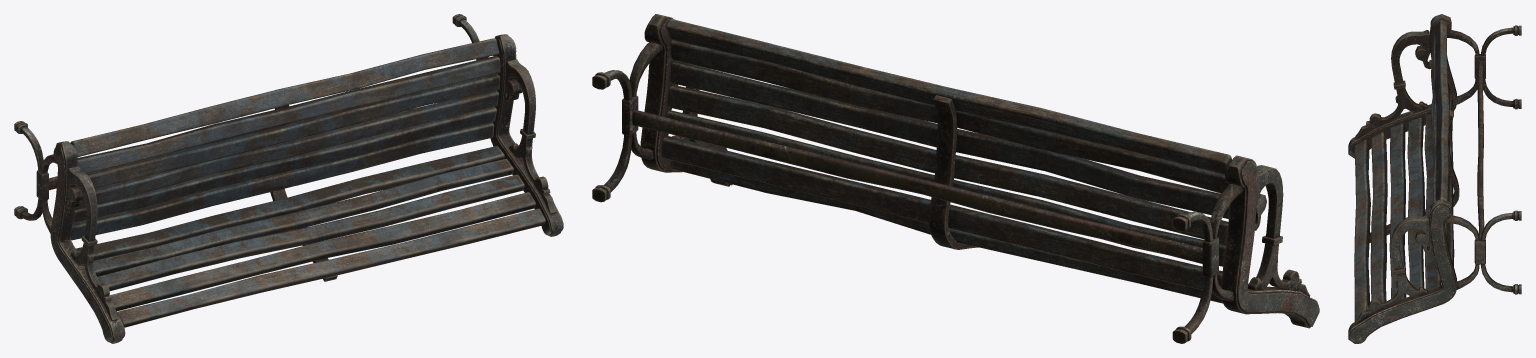
File: ParkBench01.obj
The picture shows the model from 3 angles, left to right: view 1: azimuth 30°, elevation 25°; view 2: azimuth 150°, elevation 25°; view 3: azimuth 270°, elevation 25°; orthographic projection. The views are drawn at different scales.
Visible parts, largest first — view 1: HFs_ParkBench01:1; view 2: HFs_ParkBench01:1; view 3: HFs_ParkBench01:1.
Boxes of the visible parts, box(x1,y1,x2,y2) form: HFs_ParkBench01:1: box(14, 14, 563, 343); HFs_ParkBench01:1: box(592, 14, 1319, 343); HFs_ParkBench01:1: box(1348, 14, 1521, 343).
Bounding box in the file's own units: 164 × 57.09 × 63.08.
